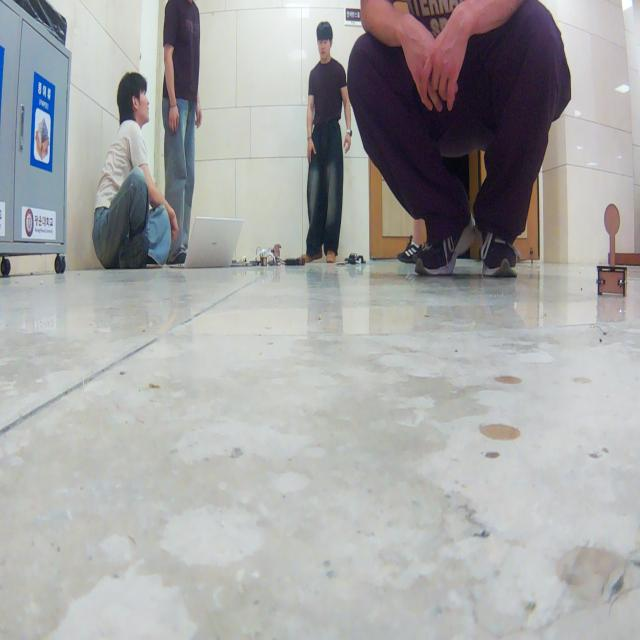target: (595, 203, 628, 297)
